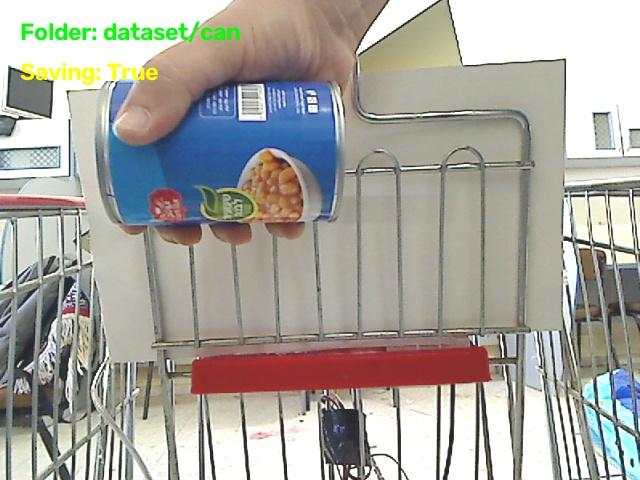can: (96, 81, 343, 225)
